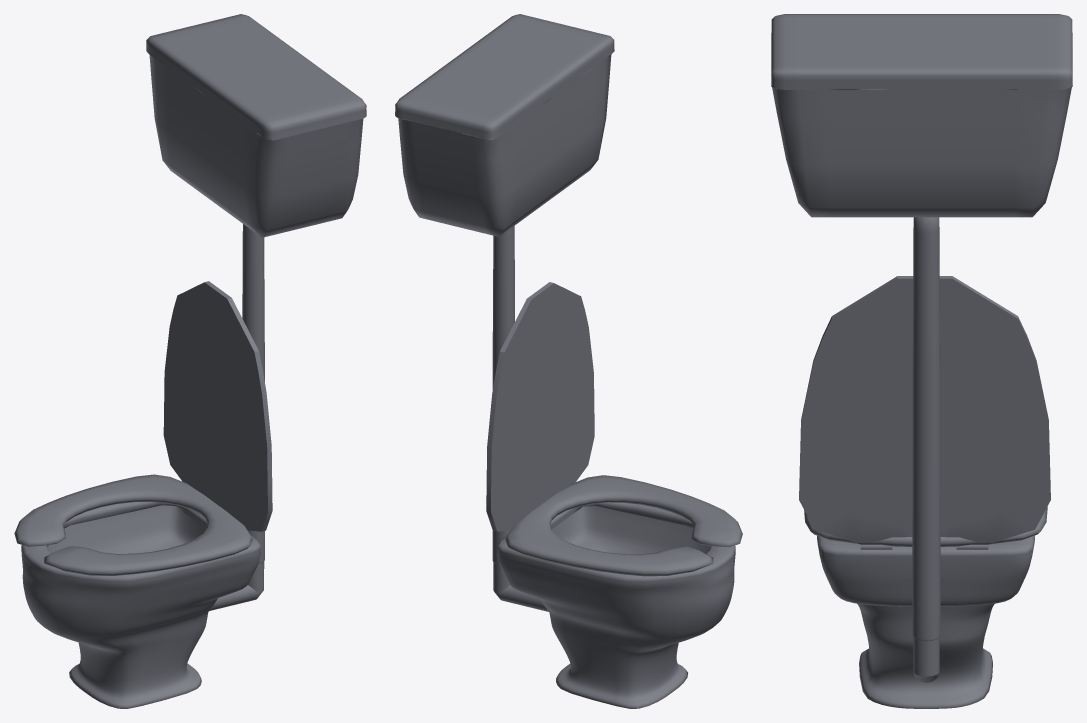
Rendered from toilet.obj.
3 views of the same model, side by side, from view 1: azimuth 30°, elevation 25°; view 2: azimuth 150°, elevation 25°; view 3: azimuth 270°, elevation 25° (orthographic). The views are drawn at different scales.
Parts seen in each view (by area): view 1: polySurface1; view 2: polySurface1; view 3: polySurface1.
Boxes of the visible parts, x1,y1,x2,y2 form: polySurface1: [14, 14, 366, 708]; polySurface1: [395, 14, 742, 708]; polySurface1: [771, 14, 1072, 708].
Size of the model in its own units: 3.05 by 6.2 by 2.4.
2 materials, 2 textured.
